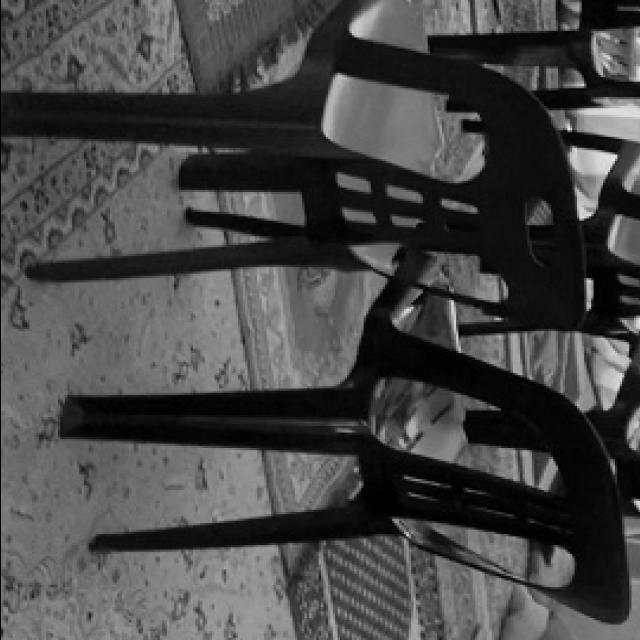chair: (0, 0, 609, 333), (50, 289, 633, 625)
